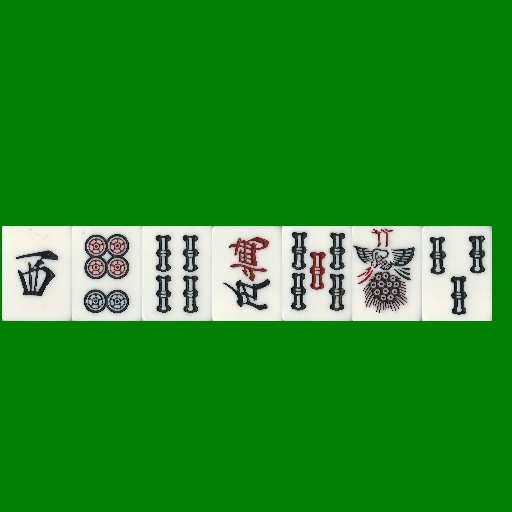1s: (352, 226, 422, 321)
3s: (422, 226, 492, 321)
4s: (142, 226, 212, 321)
5m: (212, 226, 282, 321)
5s: (282, 226, 352, 321)
6p: (72, 226, 142, 321)
west: (2, 226, 72, 321)
